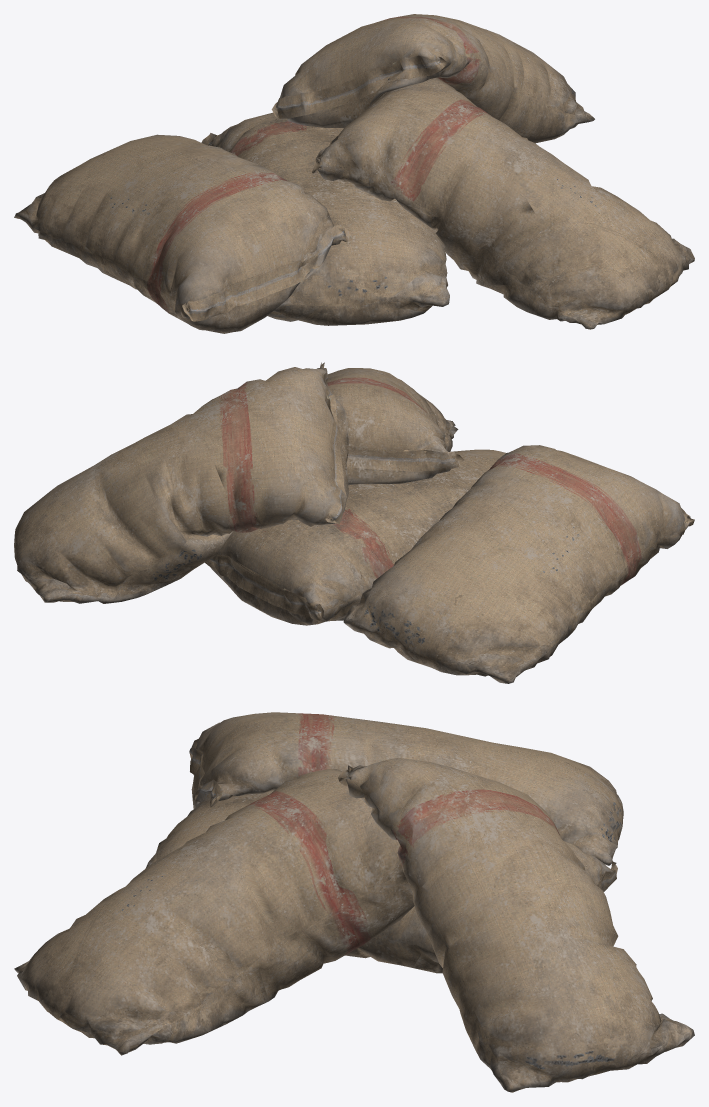
Rendered from burlap_sacks.glb.
3 views of the same model, one above another, from view 1: azimuth 30°, elevation 25°; view 2: azimuth 150°, elevation 25°; view 3: azimuth 270°, elevation 25° (orthographic). The views are drawn at different scales.
Parts seen in each view (by area): view 1: Juta_Bag_1.001; view 2: Juta_Bag_1.001; view 3: Juta_Bag_1.001.
Part boxes in pixels (box(x1,y1,x2,y2)): Juta_Bag_1.001: box(14, 14, 694, 333); Juta_Bag_1.001: box(14, 362, 694, 683); Juta_Bag_1.001: box(14, 712, 694, 1092).
Size of the model in its own units: 1.83 by 0.5817 by 1.72.
Materials: 1 (1 with a texture image).
